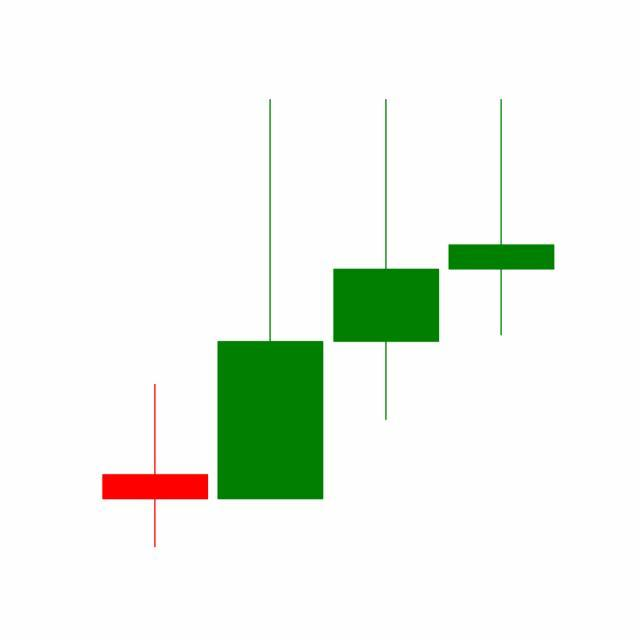Spinning Top: (329, 96, 445, 424)
